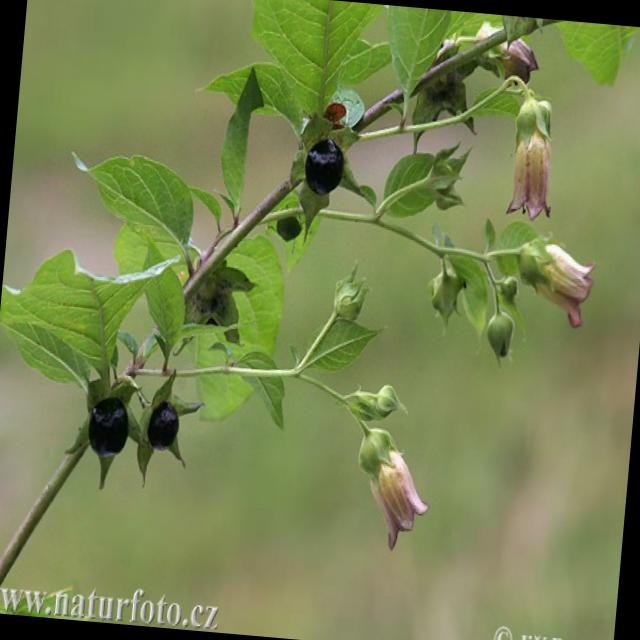Poisonous-Deadly_Nightshade: (198, 0, 627, 371), (0, 162, 328, 529), (302, 368, 446, 575)
